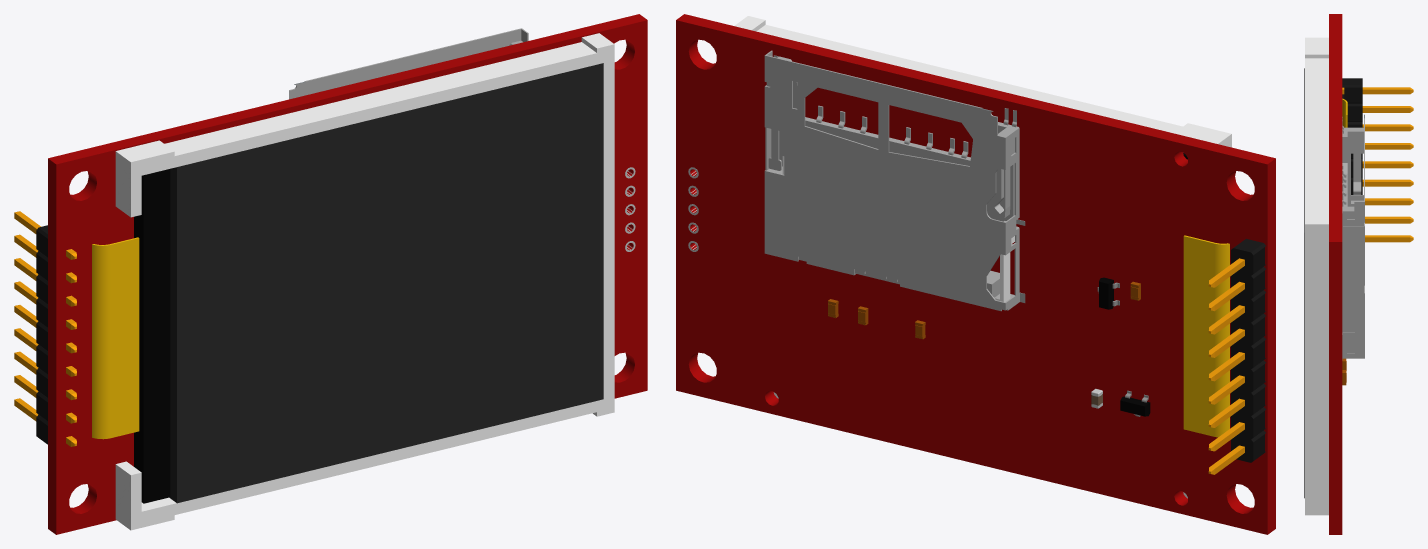
File: 2.2 TFT LCD Display Modul 240x320.obj
3 renders of one model, left to right at view 1: azimuth 30°, elevation 25°; view 2: azimuth 150°, elevation 25°; view 3: azimuth 270°, elevation 25°, orthographic. The views are drawn at different scales.
Parts seen in each view (by area): view 1: Solid1:14, Solid1:11, Solid1:13, Solid1:15, Solid1:16, Solid1:7, Solid1:8; view 2: Solid1:11, Solid1:8, Solid1:7, Solid1:16, Solid1:13; view 3: Solid1:13, Solid1:11, Solid1:8, Solid1:7, Solid1:14, Solid1:16.
Boxes of the visible parts, left/top/right/bottom form: Solid1:14: left=169, top=63, right=603, bottom=503; Solid1:11: left=48, top=14, right=647, bottom=534; Solid1:13: left=115, top=33, right=614, bottom=530; Solid1:15: left=134, top=169, right=170, bottom=503; Solid1:16: left=92, top=237, right=139, bottom=439; Solid1:7: left=14, top=211, right=76, bottom=446; Solid1:8: left=289, top=28, right=528, bottom=99; Solid1:11: left=676, top=14, right=1275, bottom=534; Solid1:8: left=764, top=50, right=1025, bottom=311; Solid1:7: left=1208, top=238, right=1265, bottom=474; Solid1:16: left=1183, top=235, right=1229, bottom=437; Solid1:13: left=734, top=16, right=1231, bottom=498; Solid1:13: left=1305, top=37, right=1328, bottom=515; Solid1:11: left=1329, top=14, right=1342, bottom=534; Solid1:8: left=1342, top=114, right=1364, bottom=360; Solid1:7: left=1342, top=78, right=1413, bottom=242; Solid1:14: left=1304, top=68, right=1304, bottom=498; Solid1:16: left=1342, top=98, right=1347, bottom=127.
Size of the model in its own units: 67.25 by 40.29 by 13.59.
